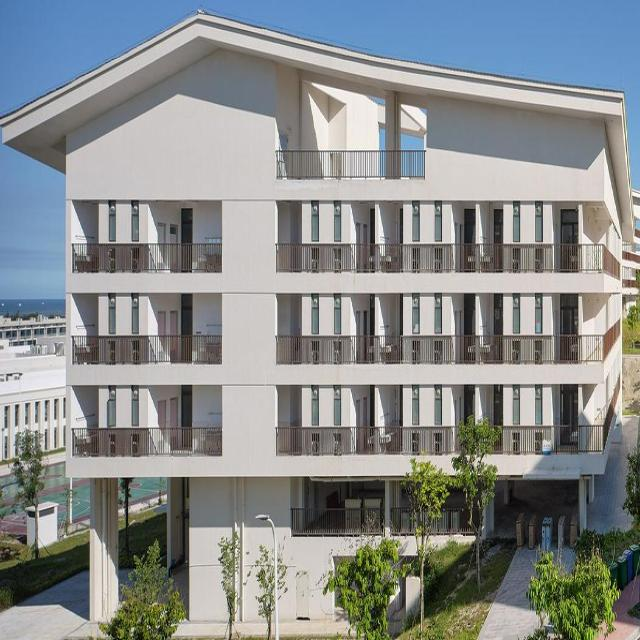railing: (274, 369, 619, 459), (275, 319, 620, 366), (274, 243, 621, 282), (290, 509, 478, 537), (72, 427, 223, 458), (71, 335, 221, 366), (276, 152, 426, 180), (73, 244, 223, 272)
window: (560, 295, 580, 336), (560, 385, 580, 426), (558, 205, 578, 245), (180, 296, 192, 340), (181, 388, 192, 433), (463, 295, 475, 336), (464, 384, 476, 425), (465, 205, 477, 246), (411, 387, 421, 428), (533, 384, 543, 425), (411, 204, 421, 245), (533, 295, 543, 336), (493, 296, 503, 337), (181, 209, 192, 246), (409, 296, 419, 336), (512, 203, 521, 246), (107, 388, 116, 430), (310, 200, 319, 242), (333, 388, 342, 429), (310, 388, 319, 429), (310, 296, 319, 337), (332, 203, 341, 244), (494, 383, 502, 428), (493, 208, 503, 244), (108, 203, 116, 246), (332, 296, 340, 338), (434, 385, 442, 427), (433, 204, 441, 246), (512, 293, 520, 335), (130, 204, 138, 245), (130, 295, 138, 336), (131, 388, 138, 430), (434, 295, 441, 337), (513, 385, 520, 427), (108, 296, 115, 337), (535, 205, 542, 246)
